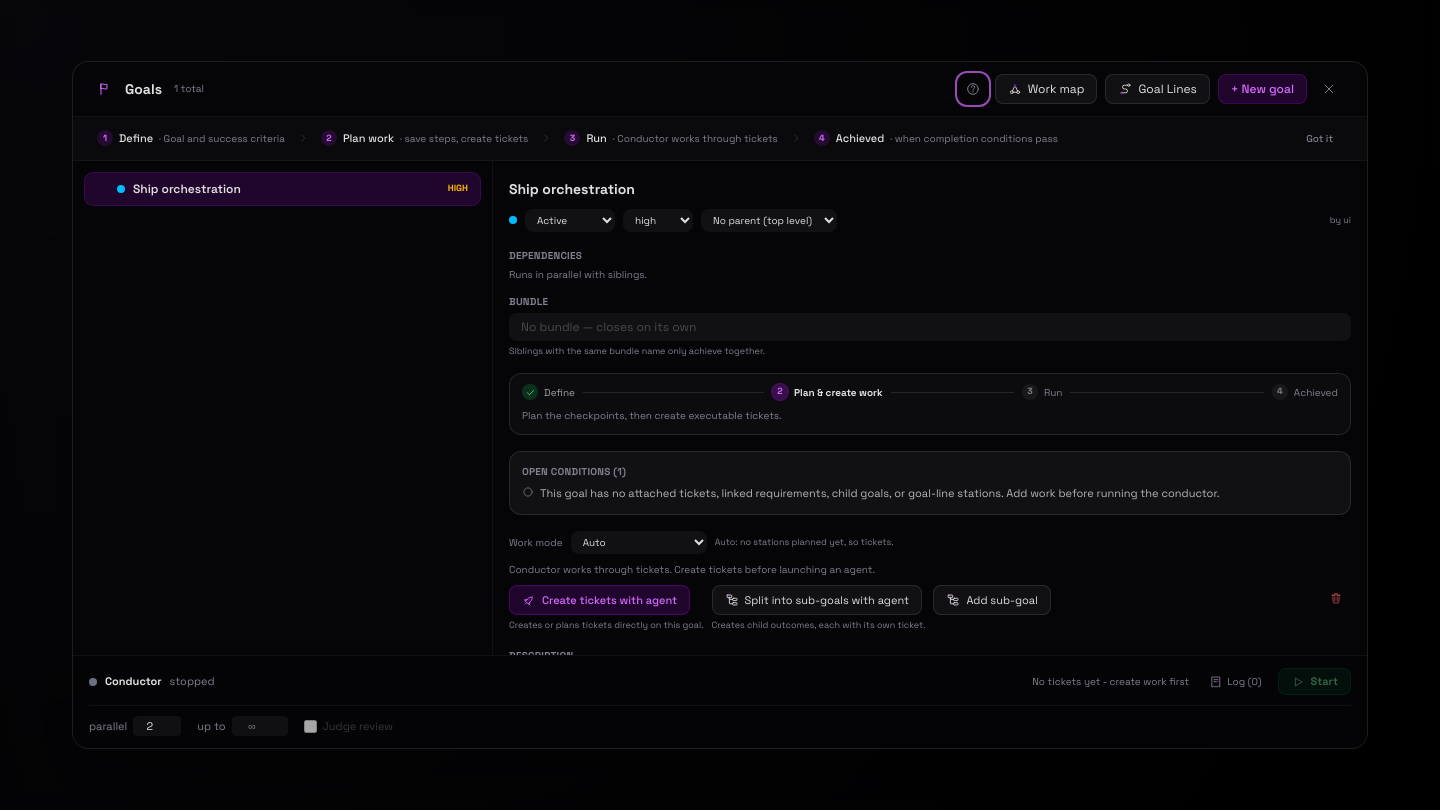
Test: GoalsModal › deleting a goal › keeps the goal when the user cancels
The width and height of the screenshot is (1440, 810).
Click the button with test id "goal-delete-btn" at (1336, 598), box [1321, 585, 1351, 611]
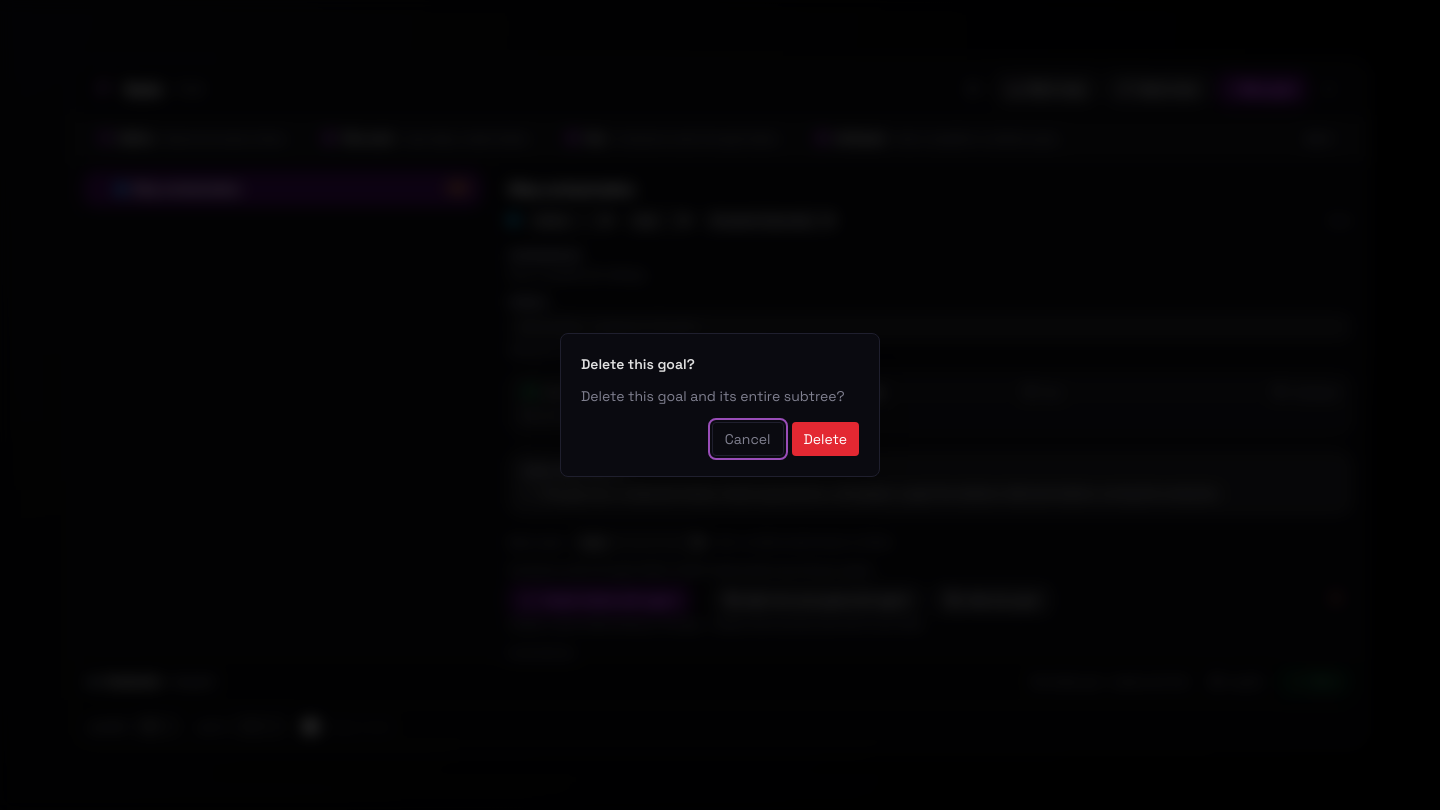
Click the button "Cancel" at (748, 439), box [712, 422, 784, 456]
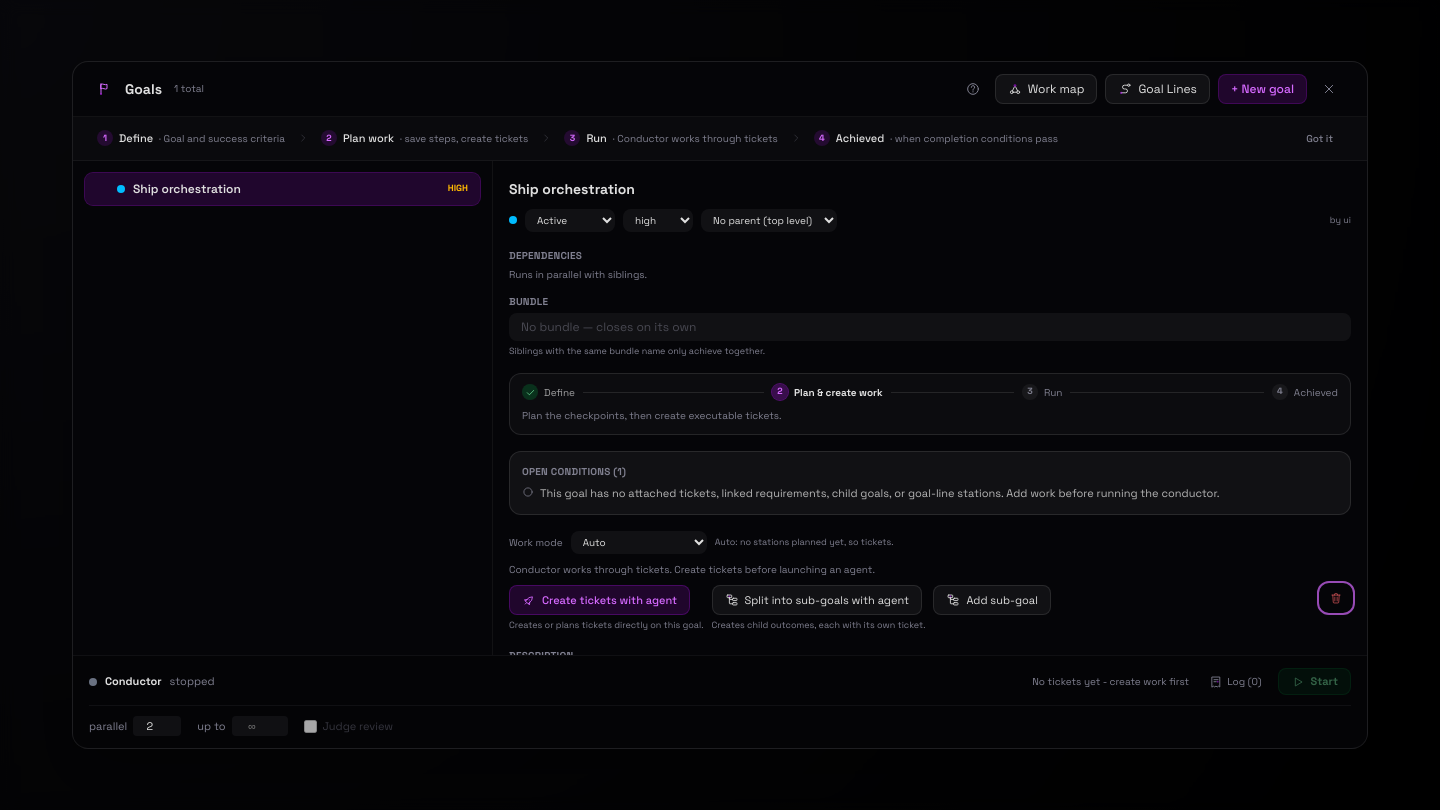
Result: the heading "Delete this goal?" is gone
